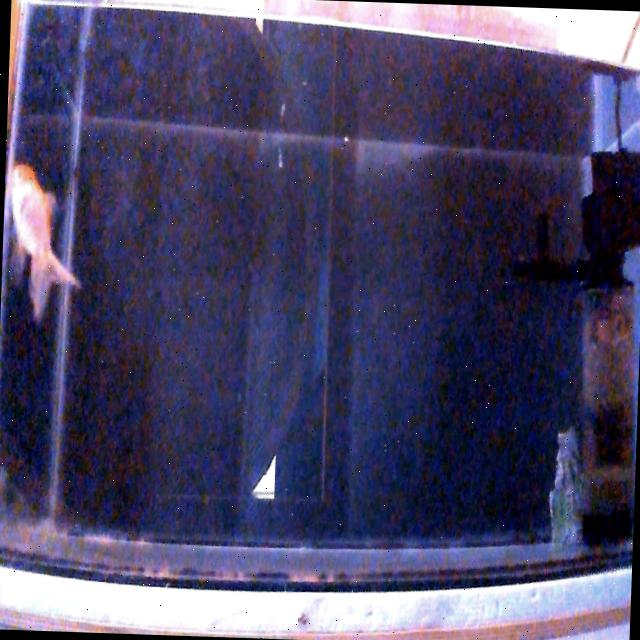fish: (4, 165, 86, 322)
